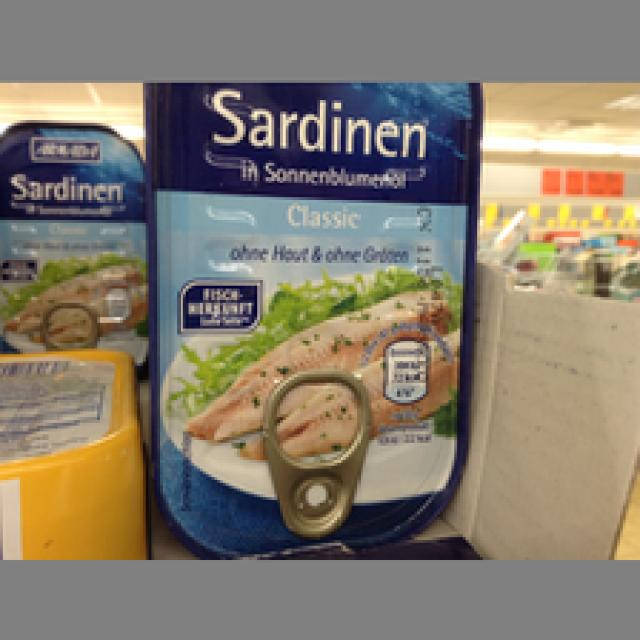groceries: (140, 80, 480, 551), (0, 120, 149, 360)
